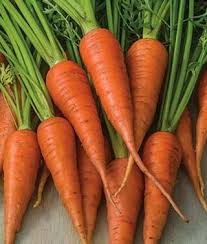carrot: (38, 53, 118, 186), (74, 24, 142, 151), (30, 111, 85, 242), (126, 124, 177, 239), (126, 33, 166, 163), (6, 125, 27, 244)
